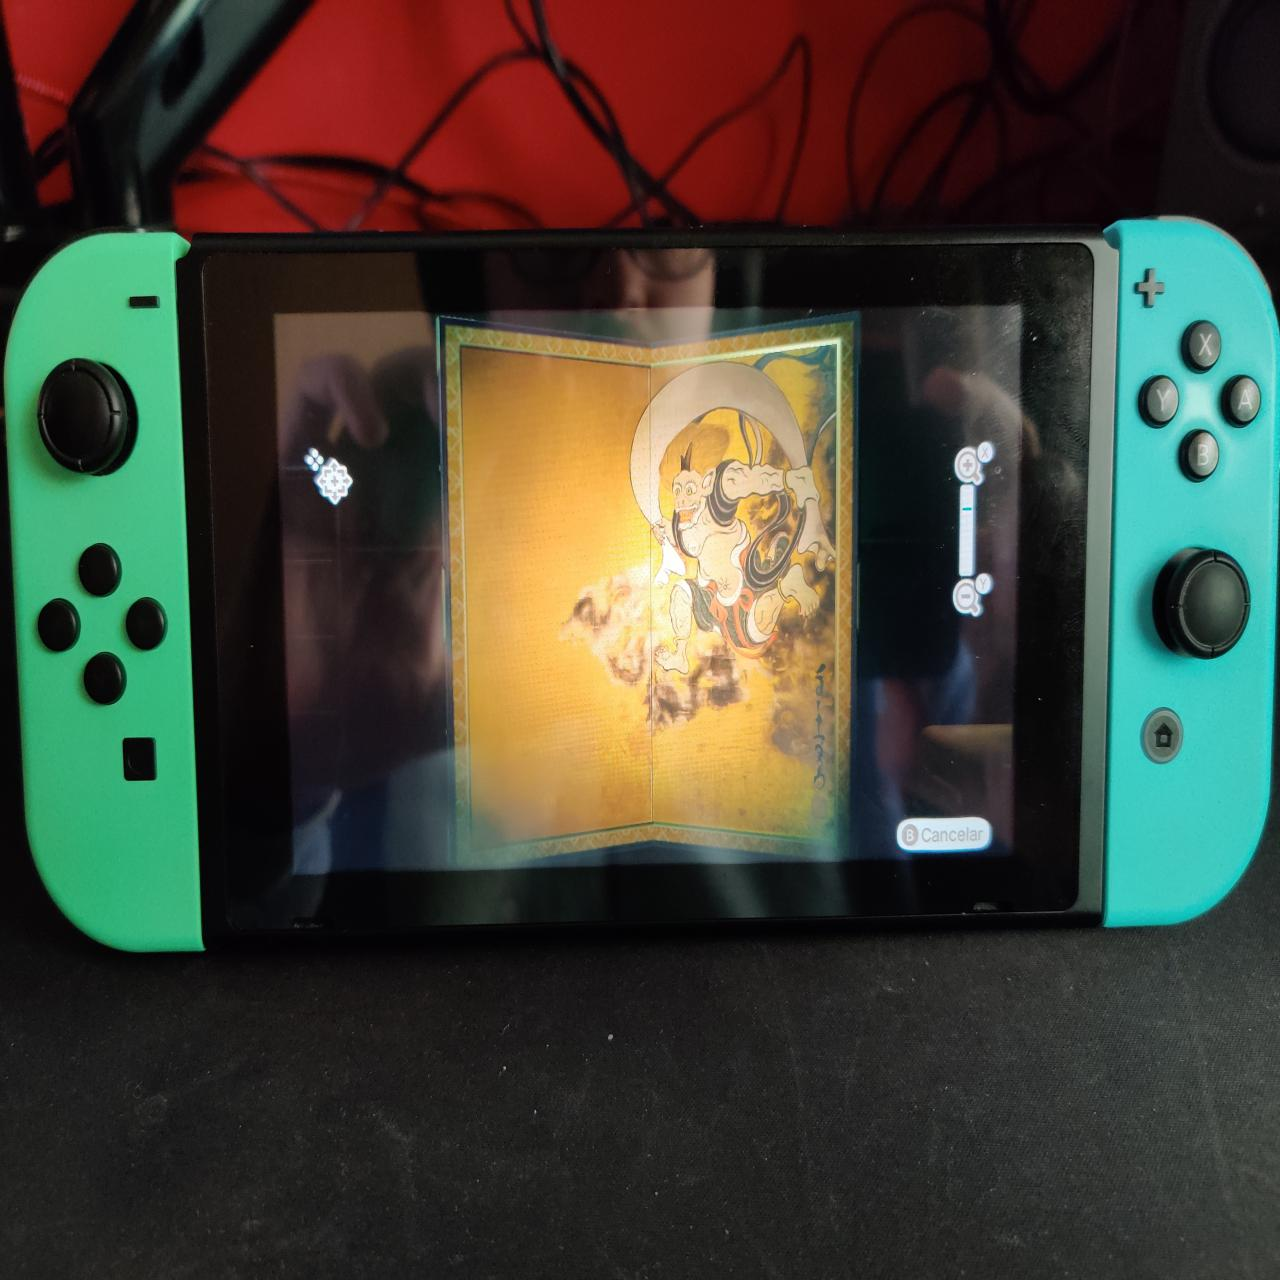FuujinFake: (443, 320, 856, 864)
